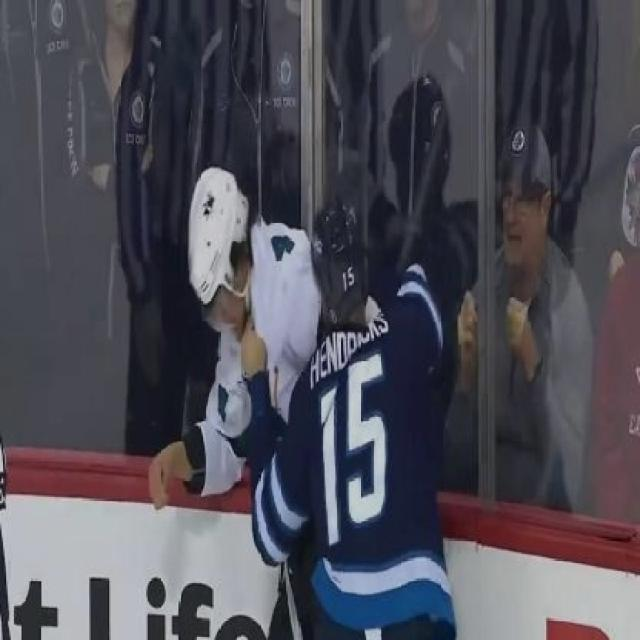fight: (123, 160, 477, 638)
